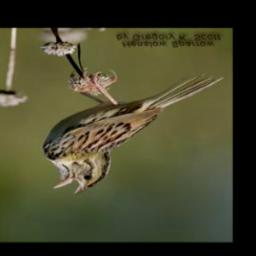Sparrow: (40, 65, 229, 198)
